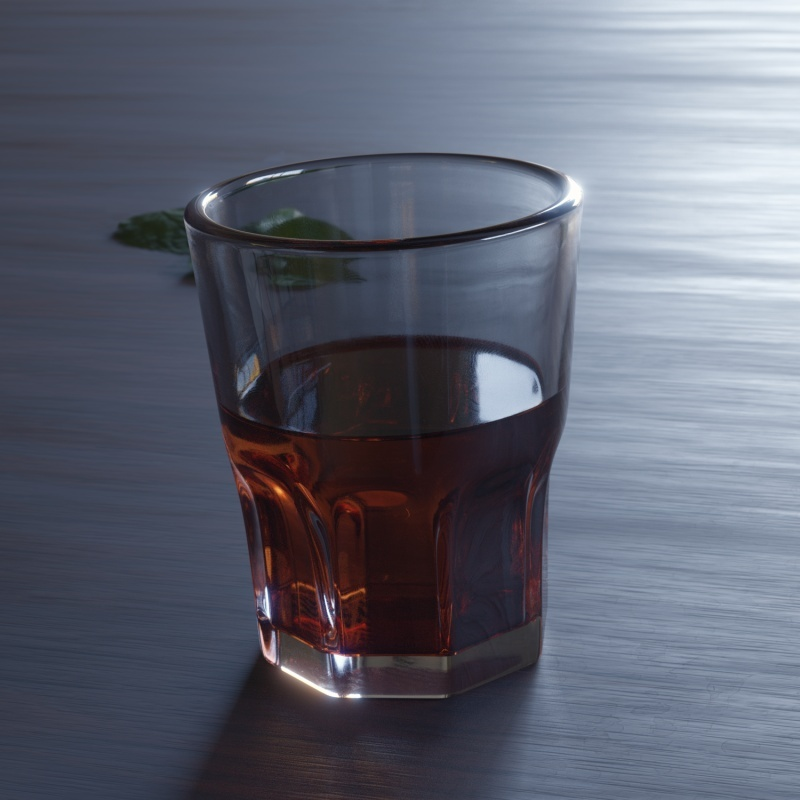whiskey: (197, 155, 572, 702)
